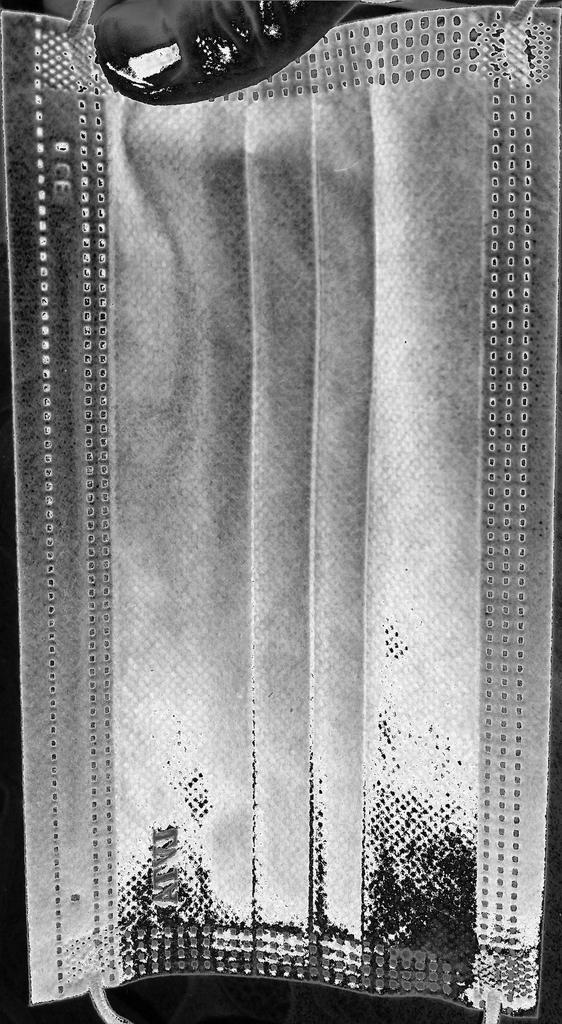High GSM: (107, 107, 490, 1010)
